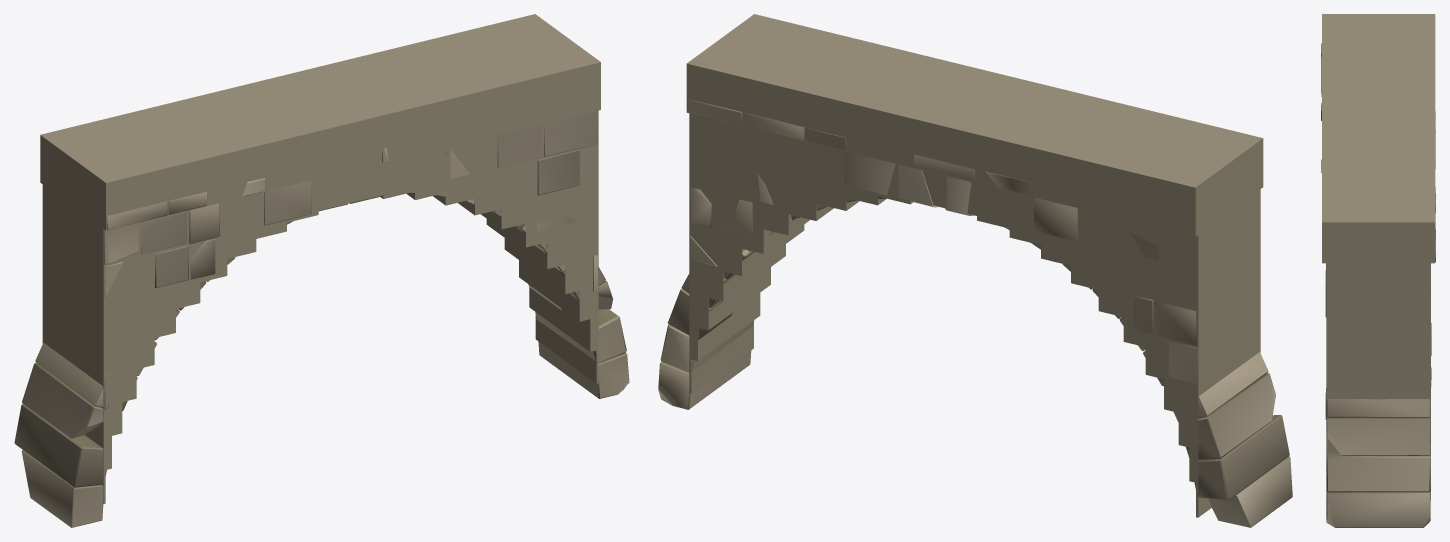
File: viaduct_top_arch.glb
3 renders of one model, left to right at view 1: azimuth 30°, elevation 25°; view 2: azimuth 150°, elevation 25°; view 3: azimuth 270°, elevation 25°, orthographic. The views are drawn at different scales.
Parts seen in each view (by area): view 1: viaduct_top_arch_far, viaduct_top_arch; view 2: viaduct_top_arch_far, viaduct_top_arch; view 3: viaduct_top_arch_far, viaduct_top_arch.
Boxes of the visible parts, x1,y1,x2,y2 form: viaduct_top_arch_far: (40,14,600,503); viaduct_top_arch: (14,111,629,527); viaduct_top_arch_far: (686,14,1263,517); viaduct_top_arch: (658,99,1292,527); viaduct_top_arch_far: (1322,14,1435,500); viaduct_top_arch: (1321,43,1435,527).
Bounding box in the file's own units: 31.84 × 18.49 × 6.58.
